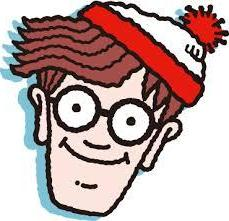waldos: (7, 1, 228, 221)
